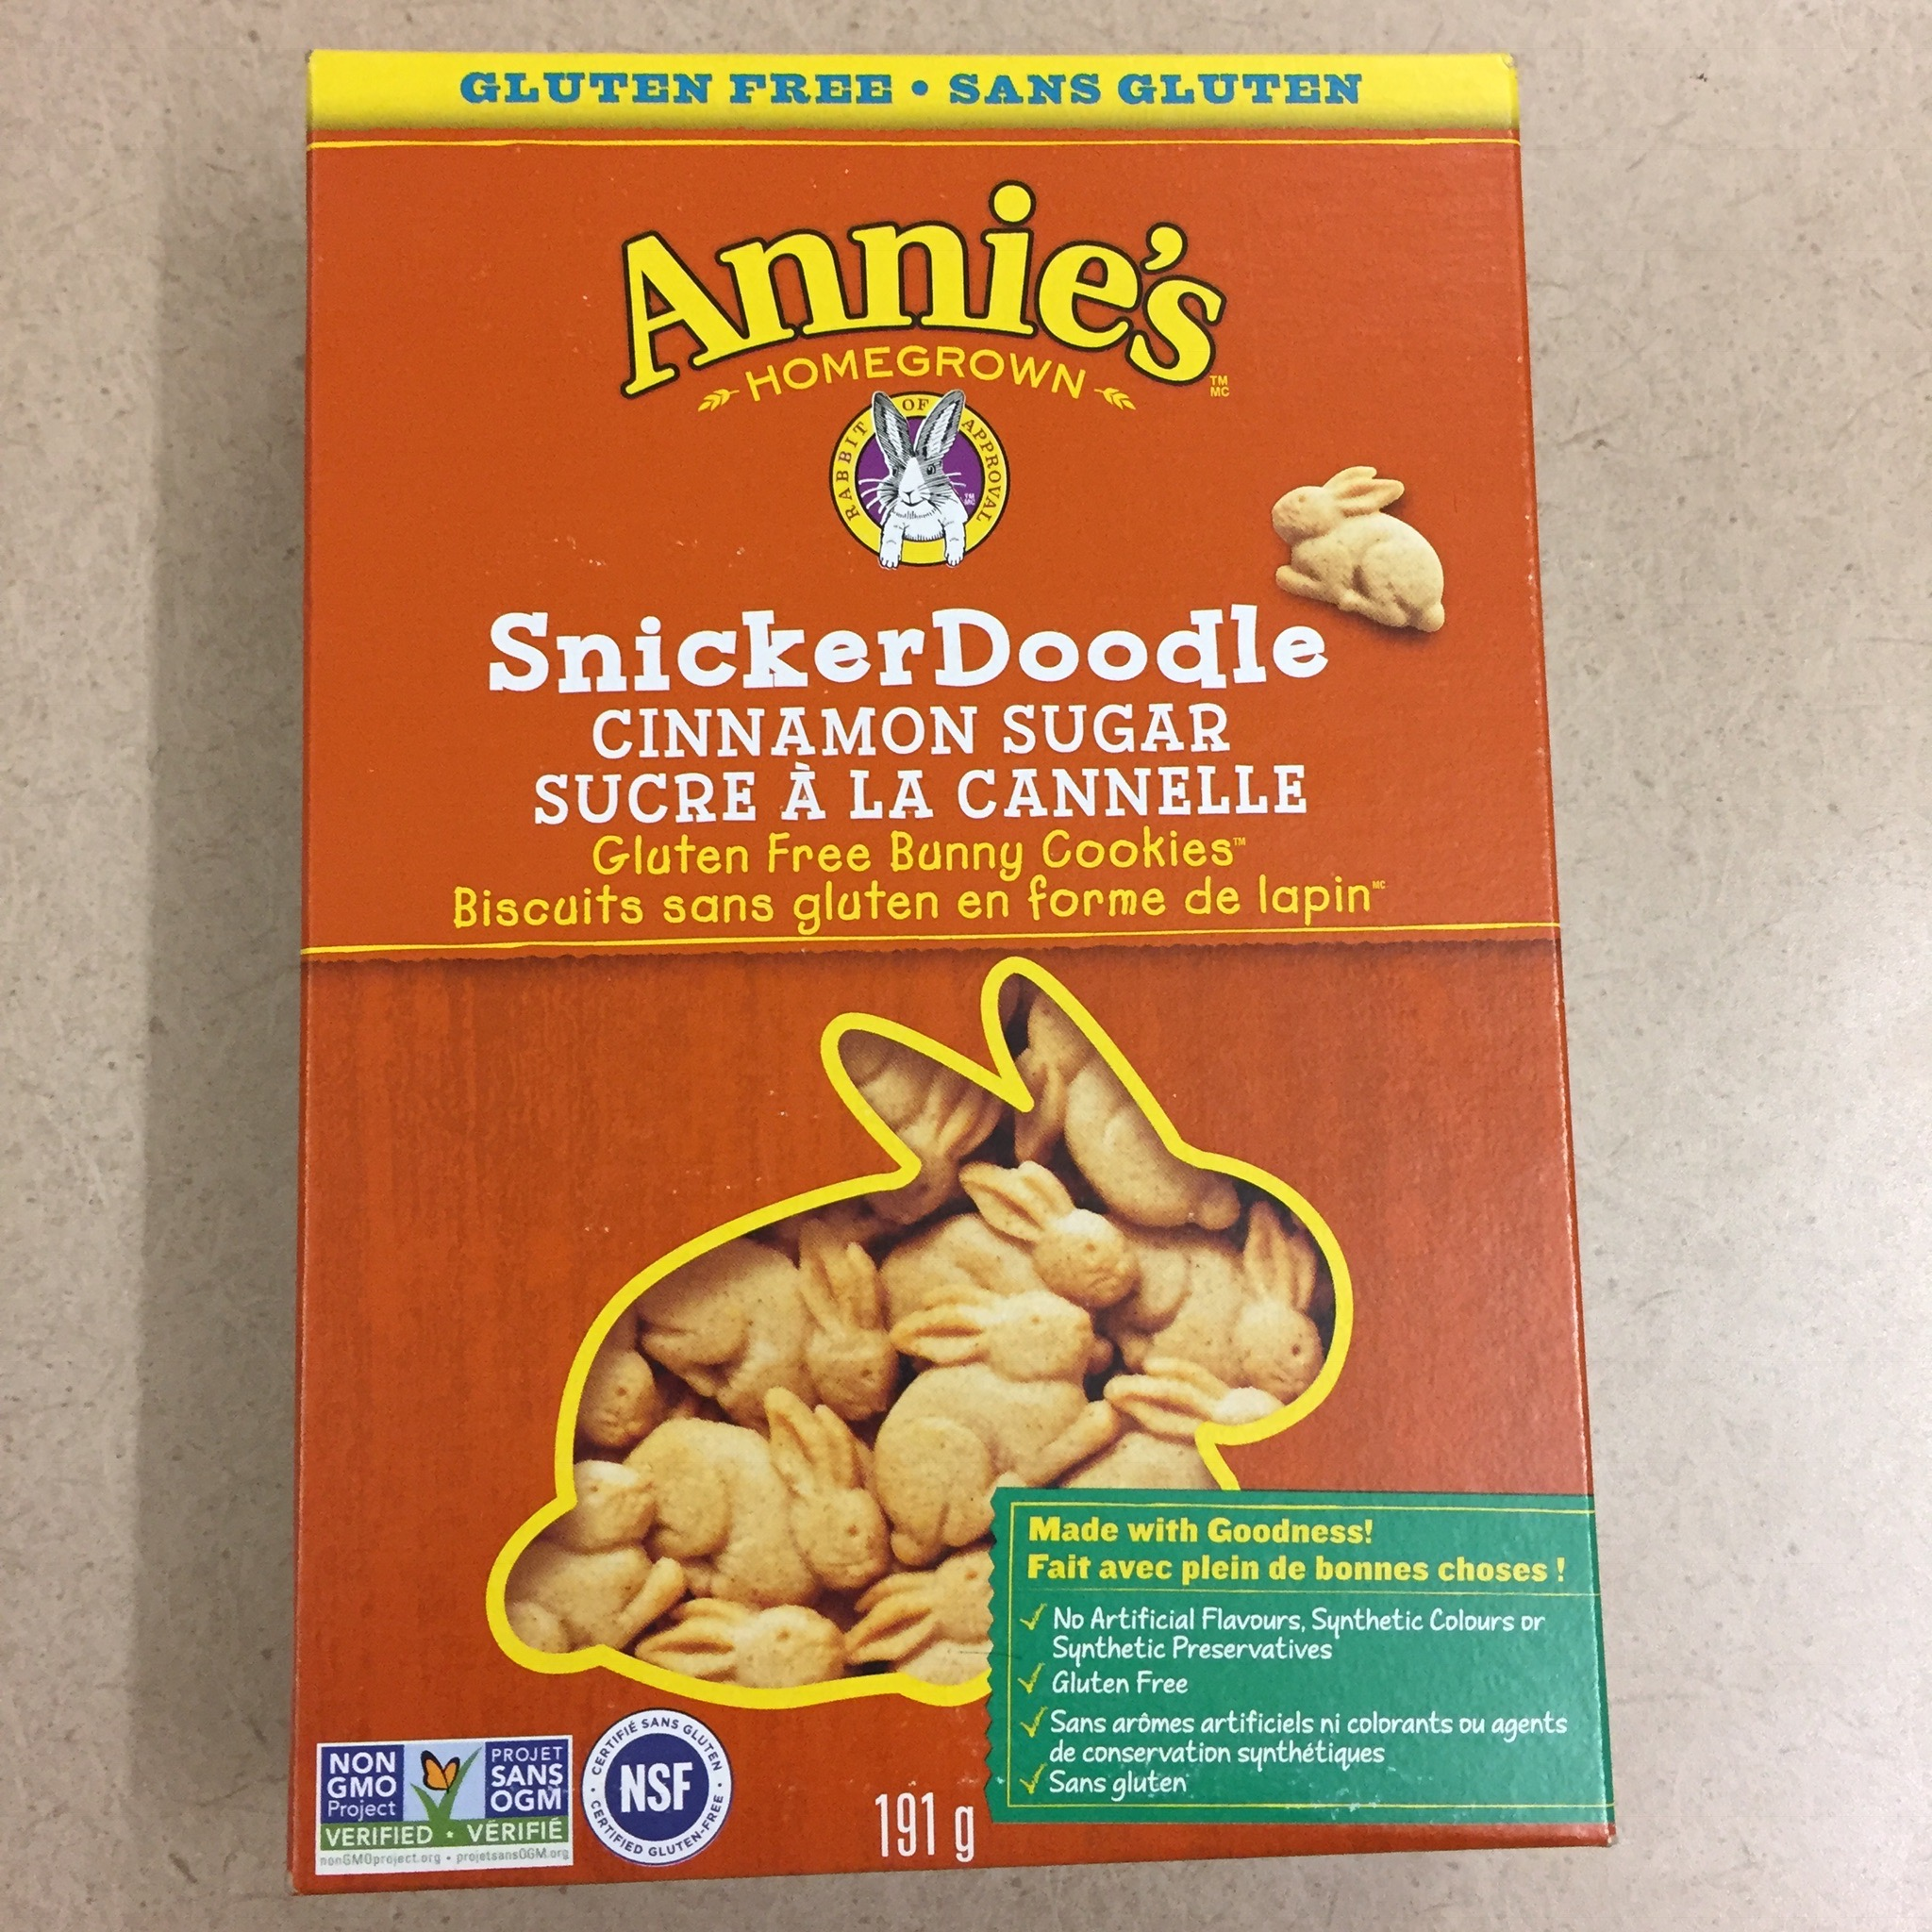annies_snickerdoodle_cinnamon_sugar: (285, 44, 1624, 1898)
